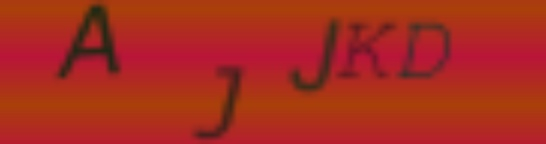A: (57, 1, 127, 79)
D: (397, 21, 454, 81)
J: (283, 18, 344, 92), (194, 62, 242, 142)
K: (338, 20, 398, 82)
